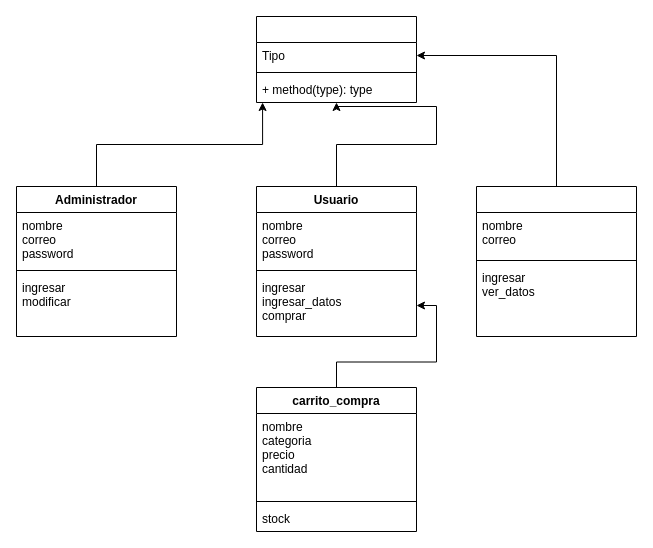
The diagram is 653 pixels wide and 548 high, and some of its shapes have lost their labels. The shapes that lost their labels are listed below. From the top down, each one's box as (x1, y1, x2, y2) in pixels, then its label:
(256, 16, 416, 102): Persona
(476, 186, 636, 336): invitado
